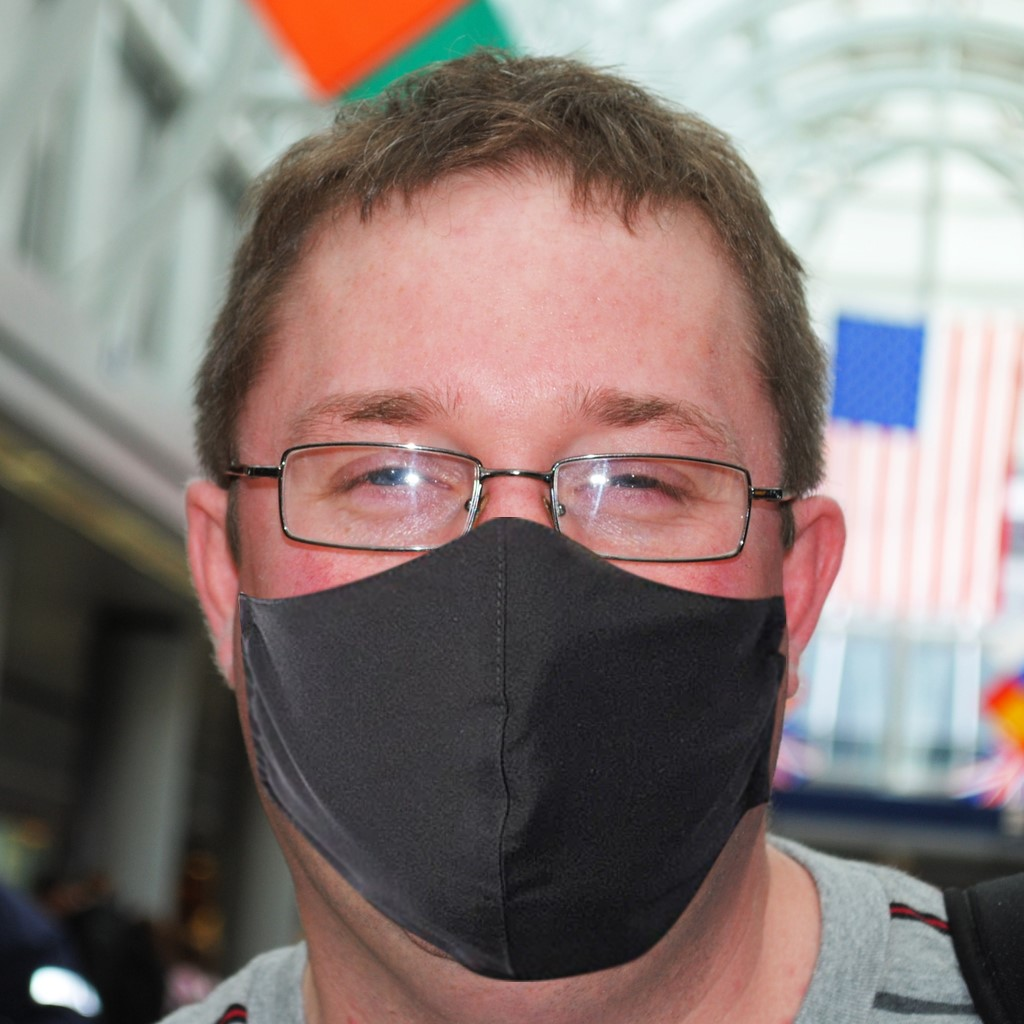con_mascara: (230, 118, 824, 1003)
